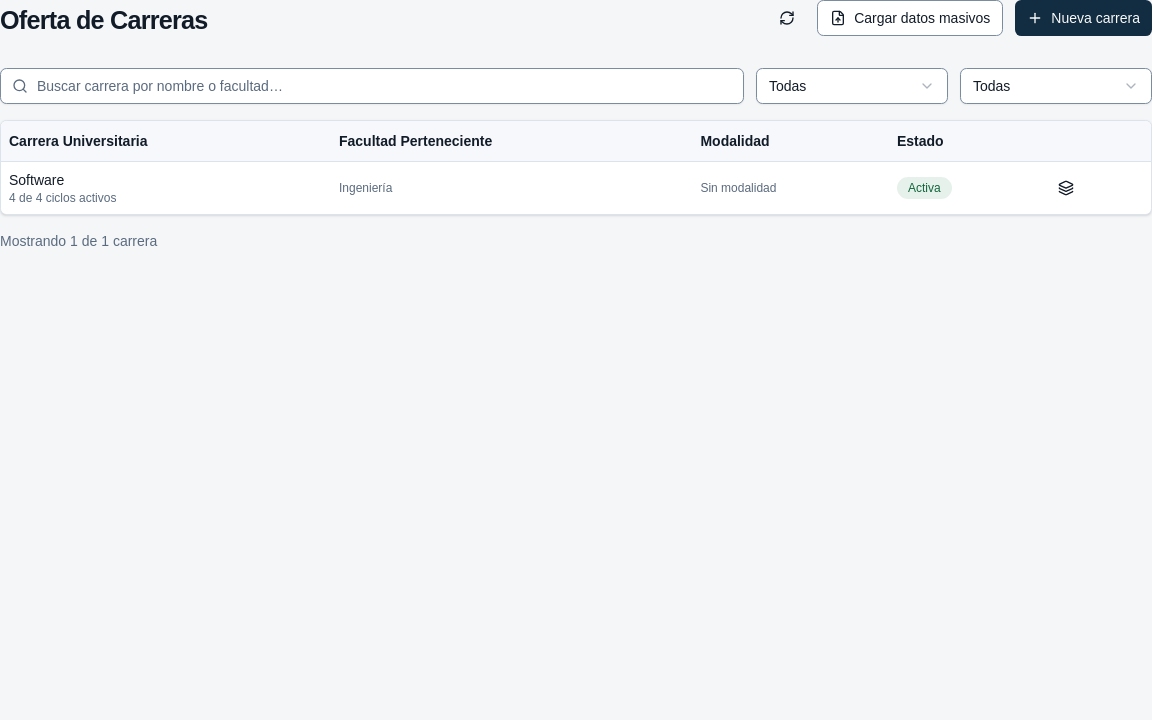
Test case: Edición de carreras › muestra "Seleccionar" como valor por defecto de modalidad y valida nombre de carrera duplicado
Click the button "Nueva carrera" at (1084, 18), box top-left (1015, 0), bottom-right (1151, 36)
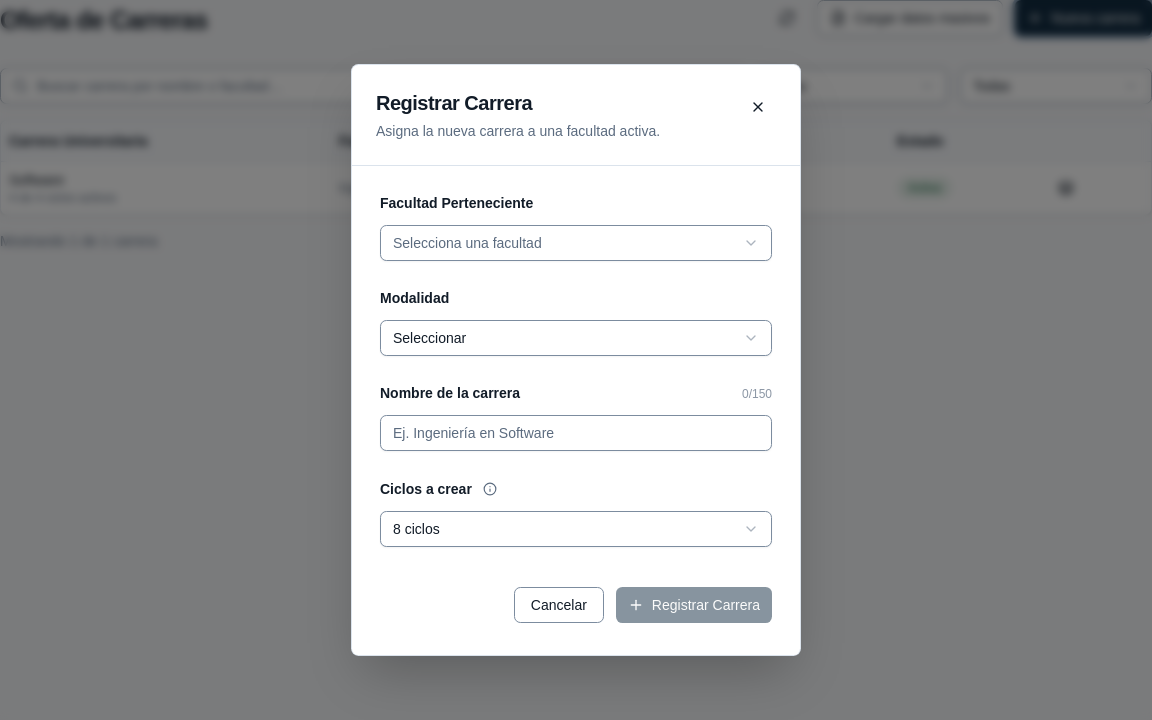
Check: the dropdown named "Modalidad" reads "Seleccionar", box top-left (380, 320), bottom-right (772, 356)
Click the dropdown named "Facultad Perteneciente" at (467, 243), box top-left (380, 225), bottom-right (772, 261)
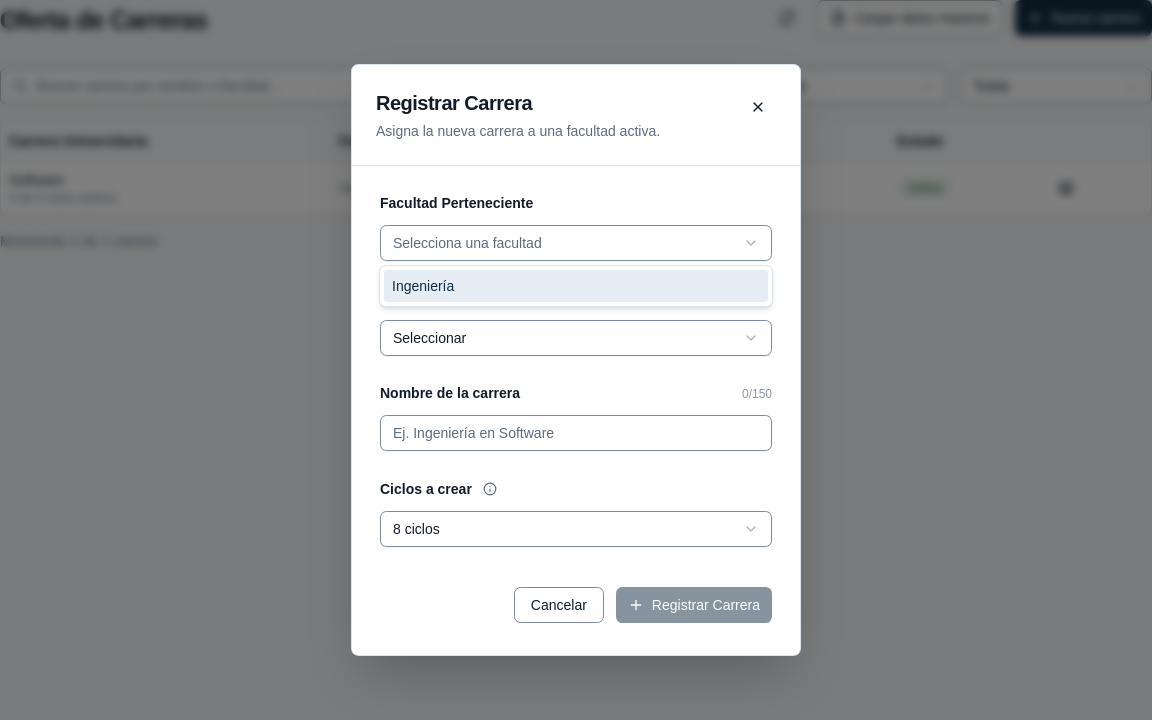
Click the option "Ingeniería" at (423, 286), box top-left (384, 270), bottom-right (768, 302)
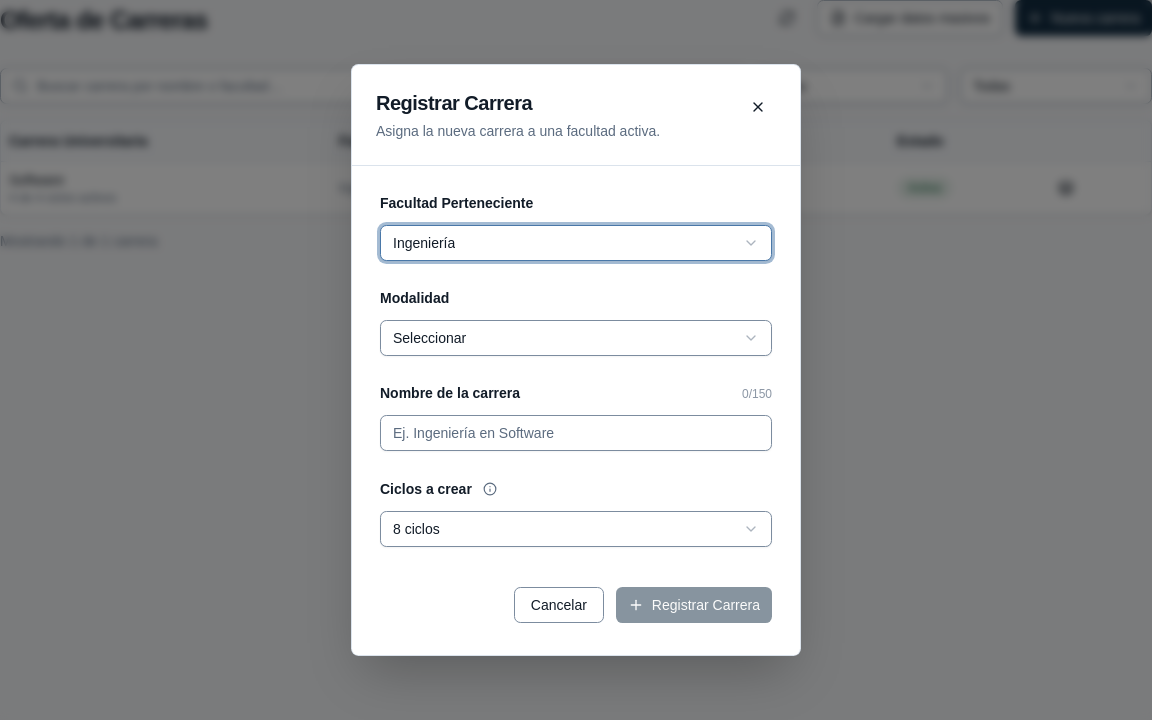
Type "Software" into the field labelled "Nombre de la carrera" at (576, 433), box top-left (380, 415), bottom-right (772, 451)
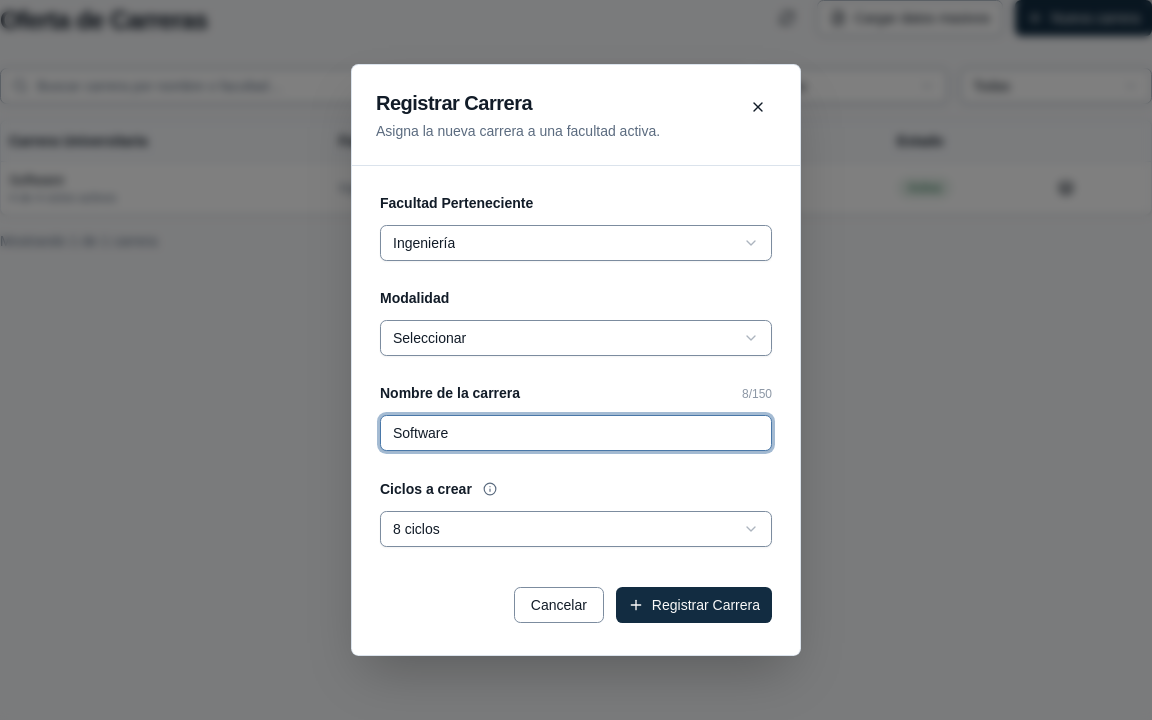
Click the button "Registrar Carrera" at (694, 605), box top-left (616, 587), bottom-right (772, 623)
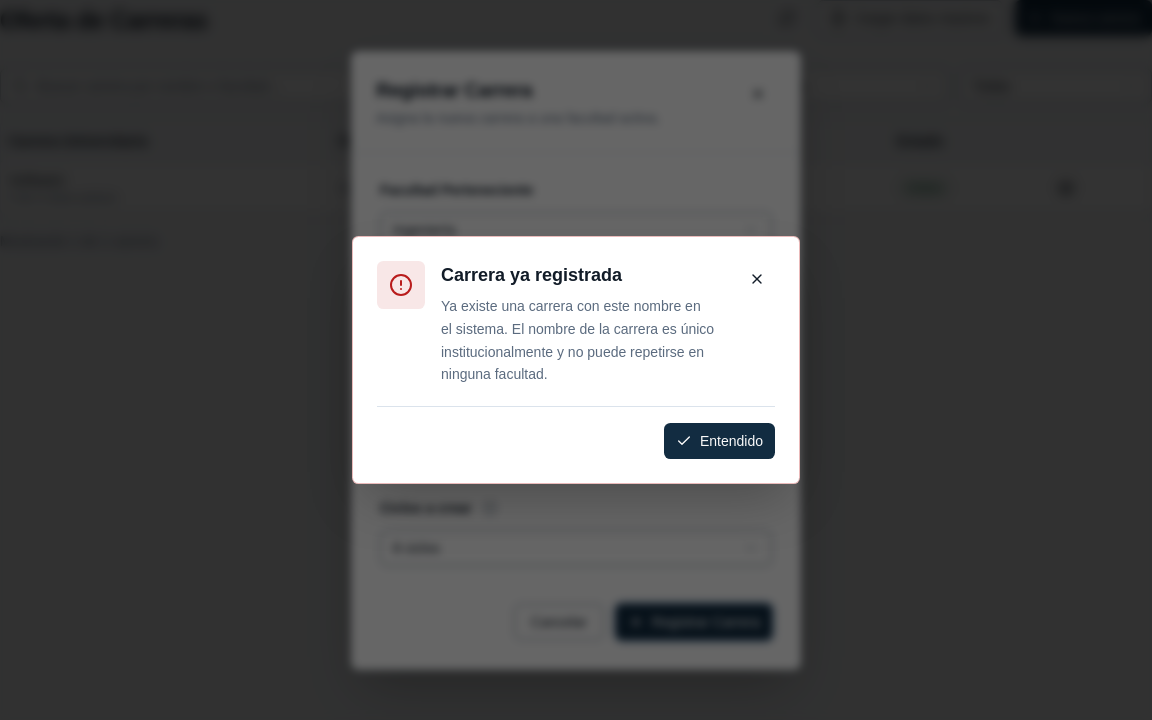
Check: the heading "Carrera ya registrada" is shown, box top-left (441, 265), bottom-right (622, 285)
